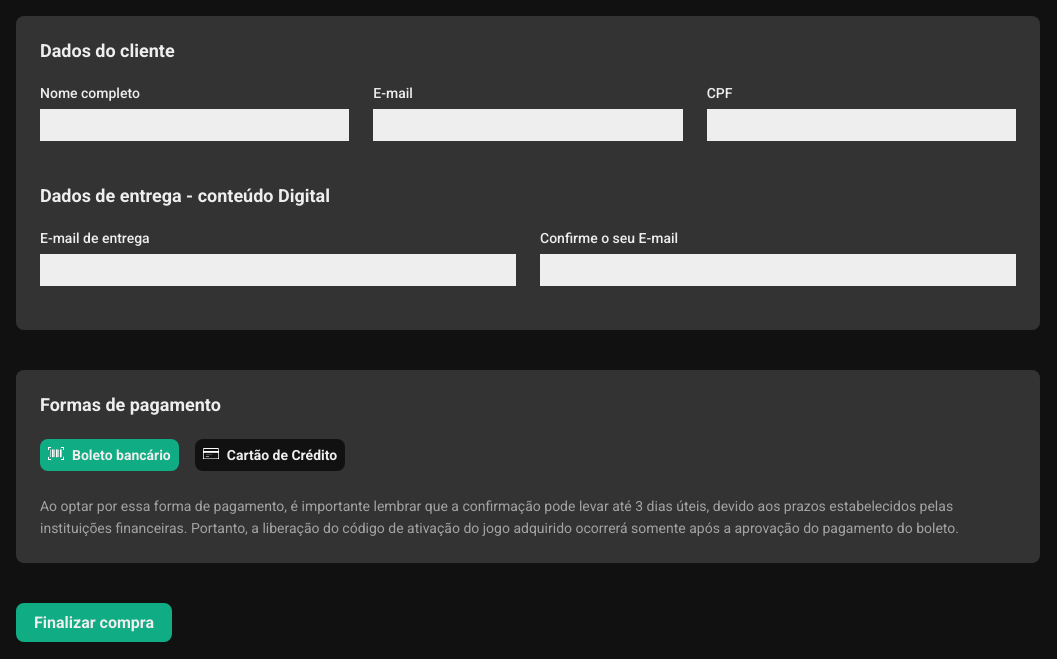
Scenario: Checkout — validações do formulário › mostra erro quando os e-mails de entrega não coincidem
Type "a@a.com" into the field labelled "E-mail de entrega" at [278, 270], box left=40, top=254, right=516, bottom=286
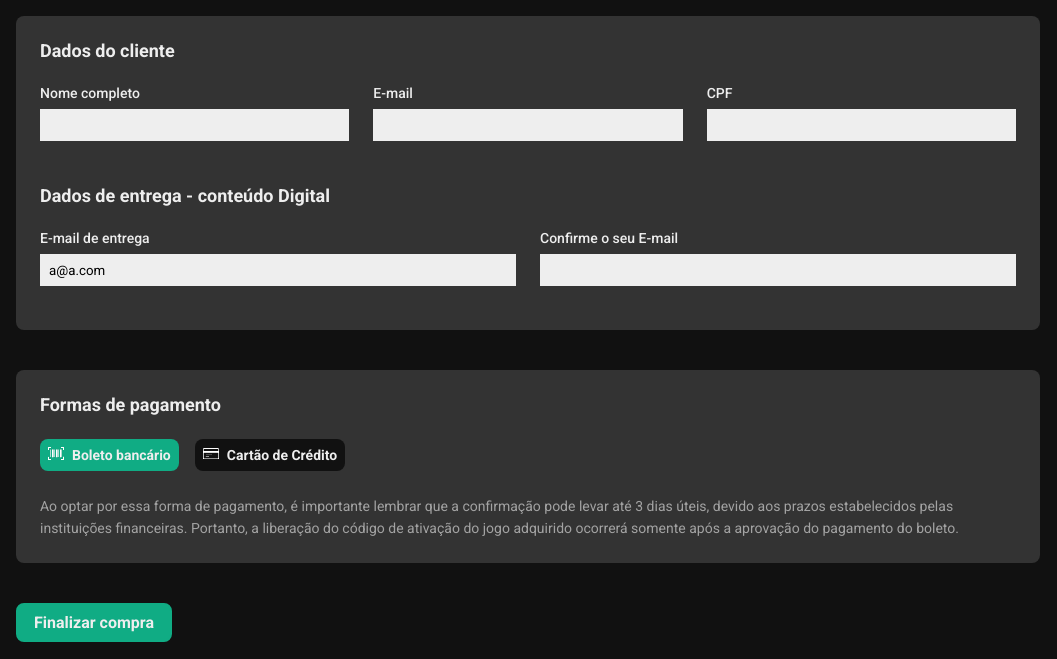
Type "b@b.com" into the field labelled "Confirme o seu E-mail" at [778, 270], box left=540, top=254, right=1016, bottom=286
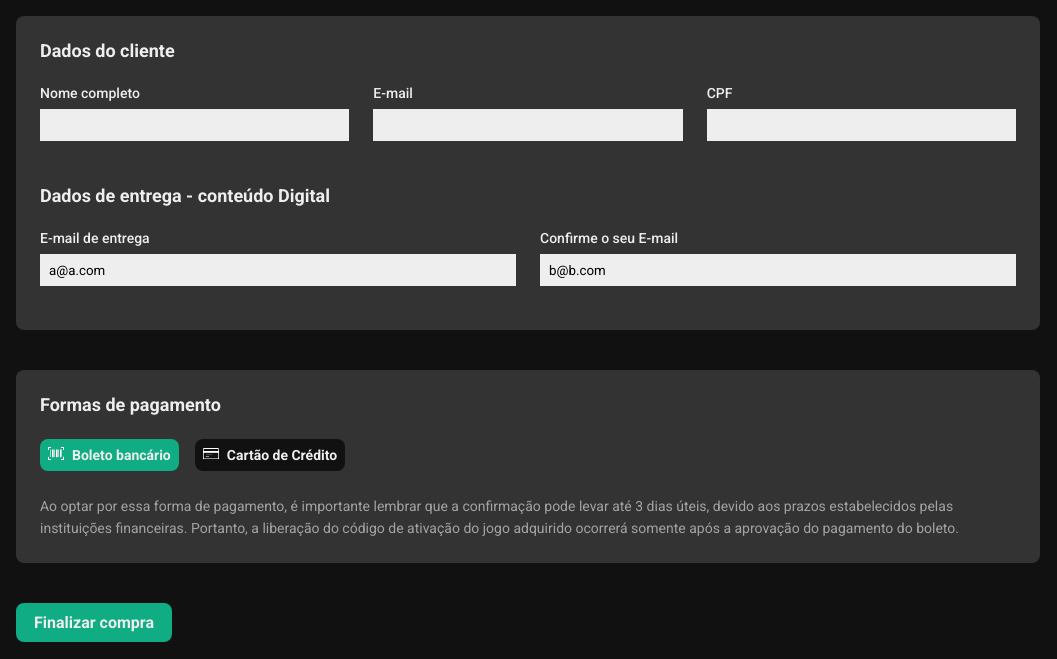
Leave the field labelled "Confirme o seu E-mail", box left=540, top=254, right=1016, bottom=286
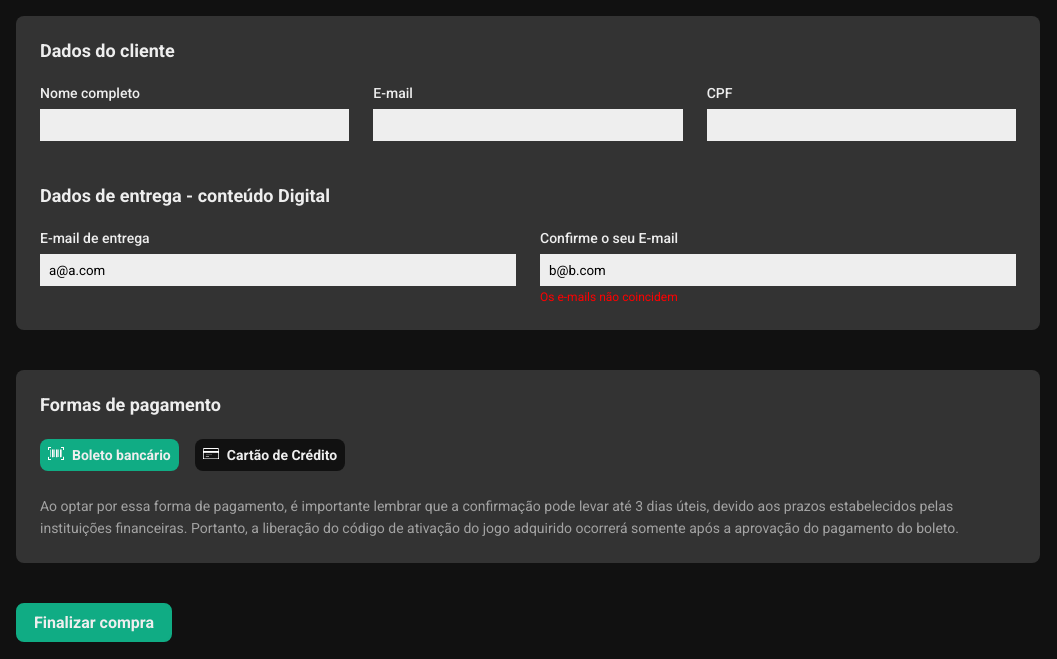
Expected: the text "Os e-mails não coincidem" is shown, left=540, top=290, right=678, bottom=304
